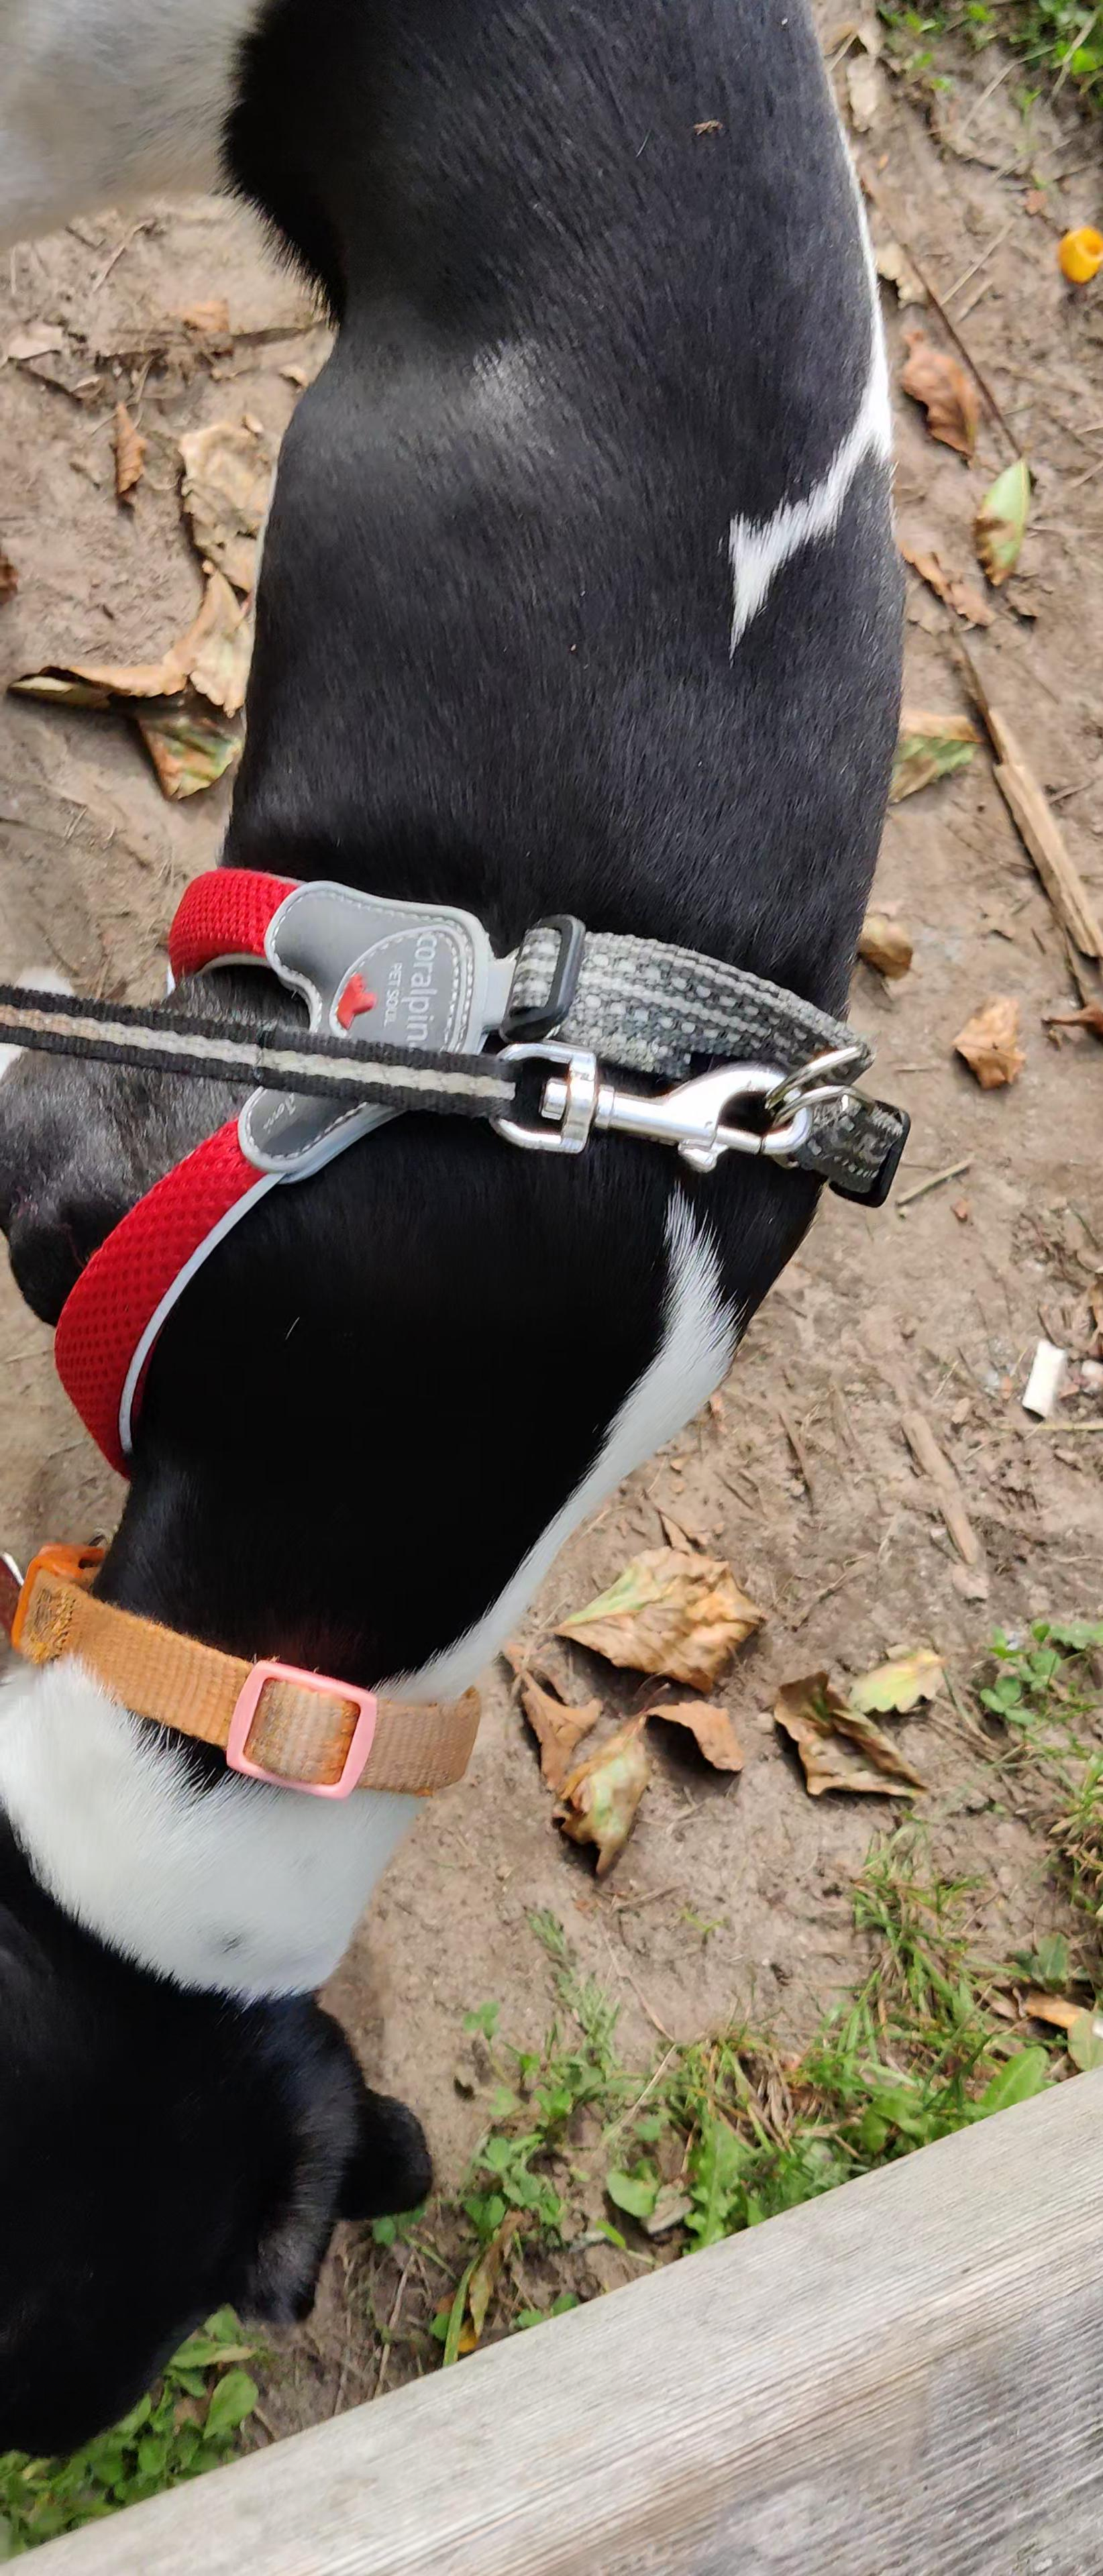Dog: (0, 0, 914, 2486)
